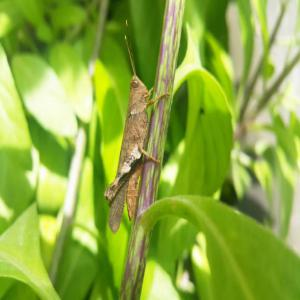locust: (97, 31, 171, 234)
